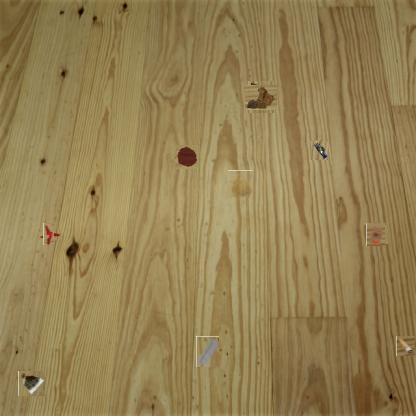dirty: (247, 82, 276, 112), (196, 336, 219, 367), (18, 370, 45, 396), (365, 224, 387, 245), (396, 337, 416, 356), (310, 140, 328, 160), (41, 226, 57, 243)
liquid: (227, 170, 253, 197), (175, 146, 197, 169)
